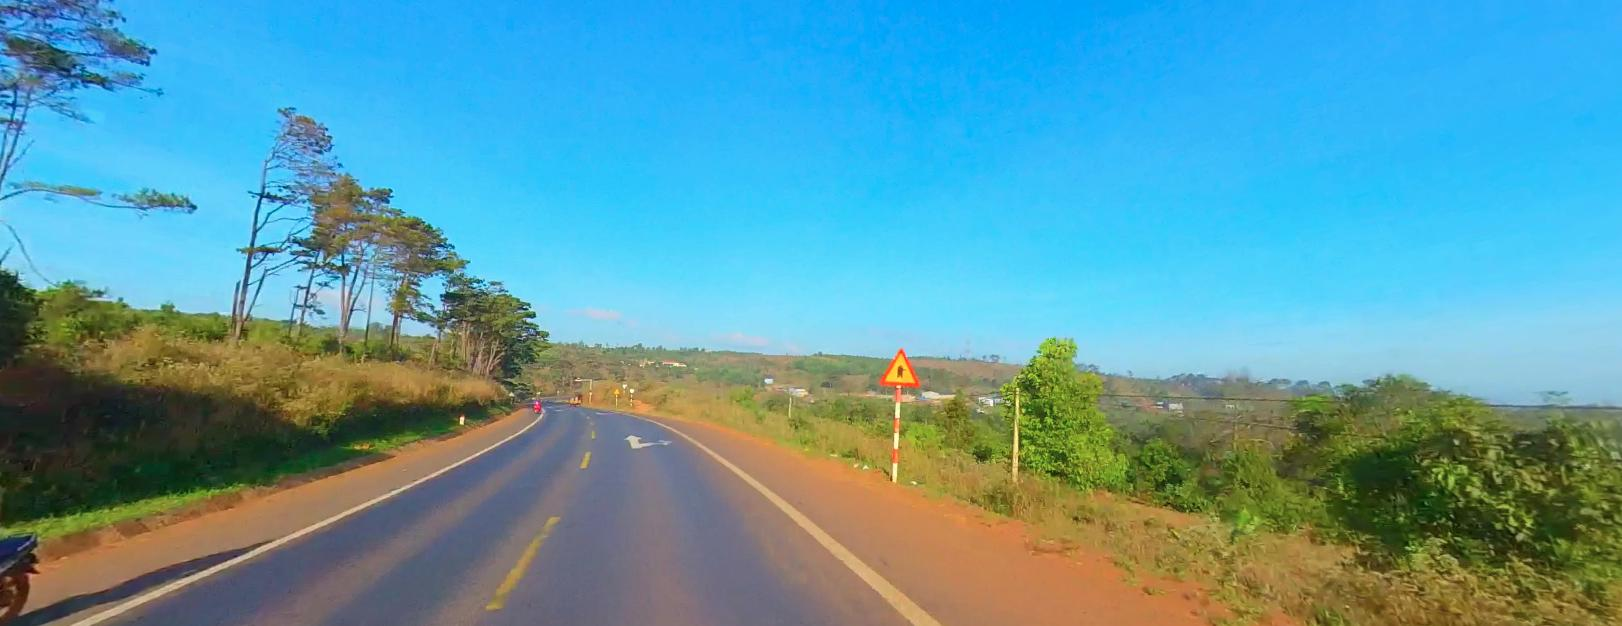Nguy hiem: (876, 344, 921, 390), (877, 342, 921, 387), (613, 387, 620, 393)
